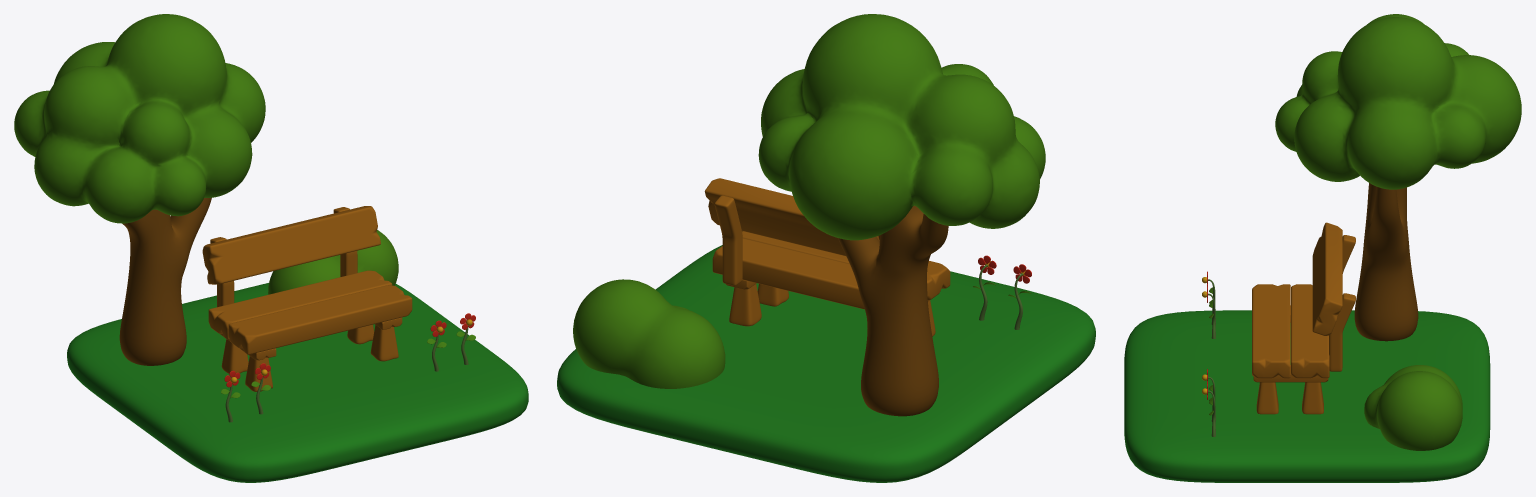
The model's file is loft.glb.
3 renders of one model, left to right at view 1: azimuth 30°, elevation 25°; view 2: azimuth 150°, elevation 25°; view 3: azimuth 270°, elevation 25°, orthographic. The views are drawn at different scales.
Parts seen in each view (by area): view 1: Cube, Mball.012, Vert, Cube.009, Cube.002, Cube.001, Mball.001, Cube.008, Cube.007, Cube.004, Cube.005; view 2: Cube, Mball.012, Vert, Mball.001, Cube.001, Cube.009, Cube.008, Cube.002, Cube.006; view 3: Cube, Mball.012, Vert, Mball.001, Cube.002, Cube.009, Cube.001, Cube.008, Cube.007, Cube.006, Cube.003.
Part boxes in pixels (x1=…): Cube: x1=67, y1=283, x2=528, y2=482; Mball.012: x1=14, y1=14, x2=265, y2=223; Vert: x1=119, y1=197, x2=211, y2=365; Cube.009: x1=202, y1=206, x2=380, y2=284; Cube.002: x1=228, y1=285, x2=412, y2=354; Cube.001: x1=208, y1=270, x2=392, y2=339; Mball.001: x1=268, y1=230, x2=398, y2=294; Cube.008: x1=210, y1=207, x2=357, y2=307; Cube.007: x1=370, y1=325, x2=398, y2=361; Cube.004: x1=221, y1=339, x2=248, y2=373; Cube.005: x1=245, y1=356, x2=272, y2=391; Cube: x1=557, y1=245, x2=1095, y2=482; Mball.012: x1=758, y1=14, x2=1045, y2=240; Vert: x1=838, y1=205, x2=948, y2=416; Mball.001: x1=573, y1=279, x2=725, y2=388; Cube.001: x1=712, y1=238, x2=864, y2=309; Cube.009: x1=704, y1=178, x2=879, y2=255; Cube.008: x1=714, y1=195, x2=879, y2=285; Cube.002: x1=742, y1=231, x2=950, y2=300; Cube.006: x1=729, y1=284, x2=761, y2=326; Cube: x1=1124, y1=310, x2=1490, y2=482; Mball.012: x1=1275, y1=14, x2=1521, y2=189; Vert: x1=1354, y1=183, x2=1418, y2=341; Mball.001: x1=1364, y1=365, x2=1462, y2=450; Cube.002: x1=1252, y1=284, x2=1290, y2=378; Cube.009: x1=1312, y1=222, x2=1342, y2=335; Cube.001: x1=1291, y1=284, x2=1329, y2=378; Cube.008: x1=1329, y1=235, x2=1355, y2=371; Cube.007: x1=1256, y1=382, x2=1278, y2=414; Cube.006: x1=1302, y1=382, x2=1323, y2=414; Cube.003: x1=1253, y1=305, x2=1328, y2=382.
Size of the model in its own units: 2.33 by 2.12 by 2.17.
